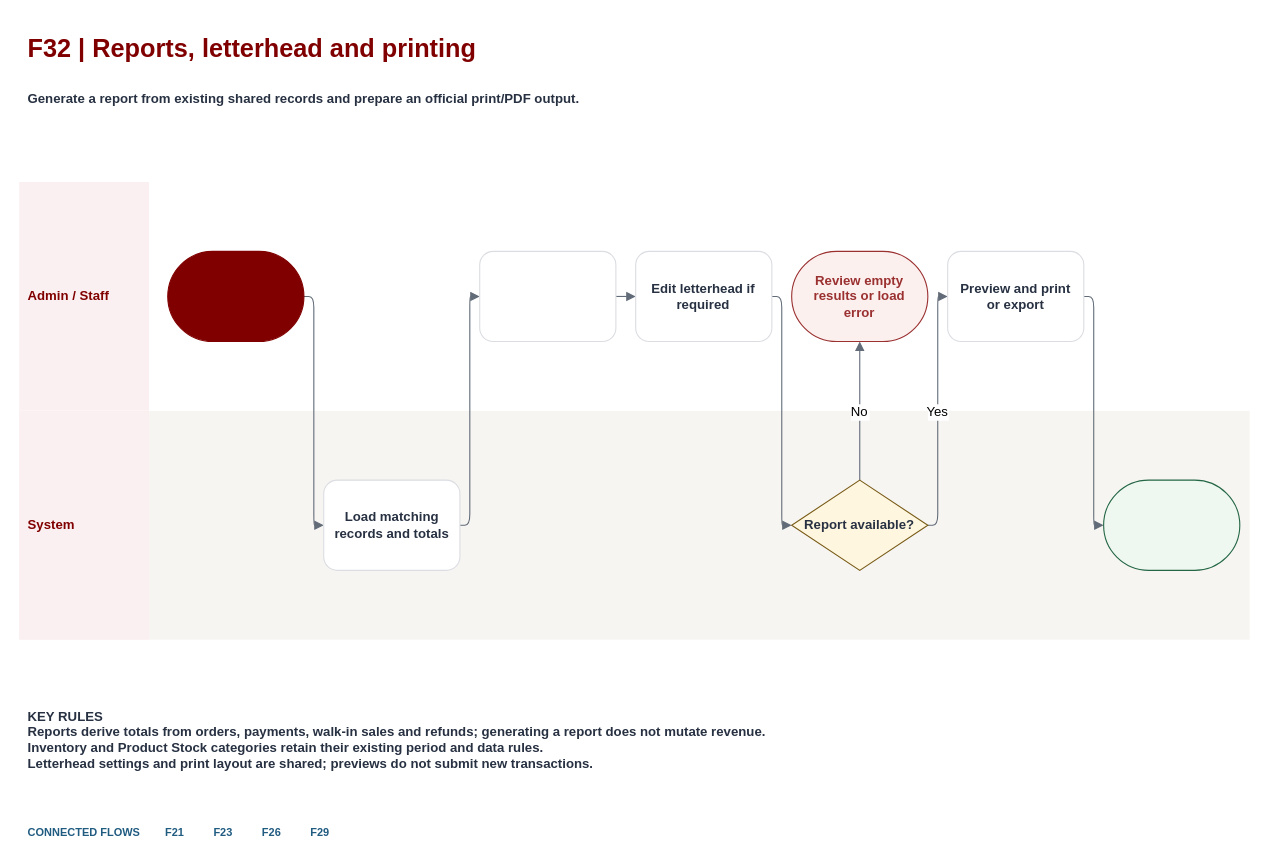
Image size: 1268x860. Some labels were removed from this diagram. Each missing label, with the box of its shape:
Choose category and period: (167, 250, 304, 342)
Retain operational source records: (1103, 479, 1240, 570)
Review summary and transactions: (479, 250, 616, 342)
